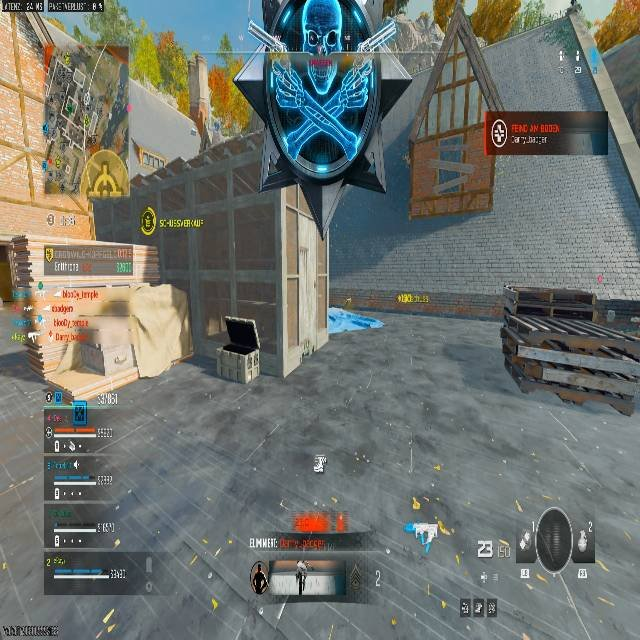player: (294, 560, 308, 593)
